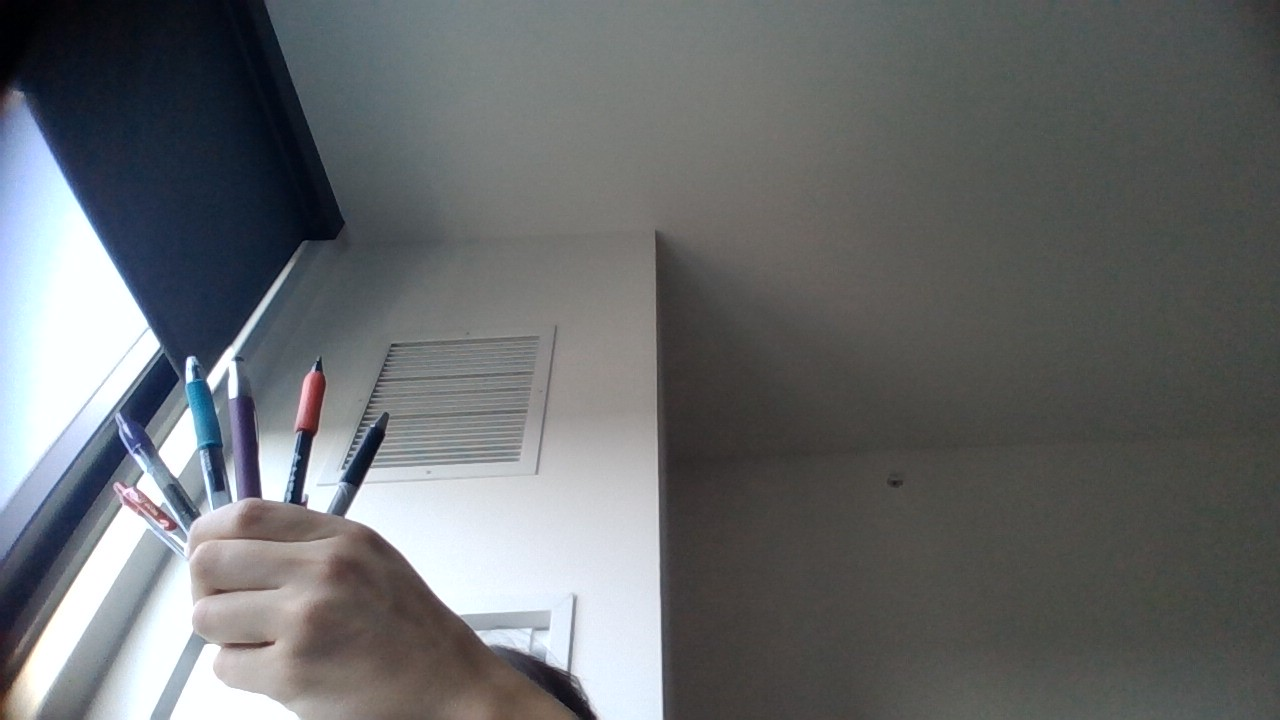Blue Pen: (184, 354, 233, 506)
Cypres Pen Purple: (226, 354, 264, 503)
Purple Pen: (109, 408, 201, 520)
Red Mechanical Pencil: (280, 356, 325, 506)
Red Pen: (114, 479, 187, 558)
Silver Pen: (328, 411, 389, 519)
